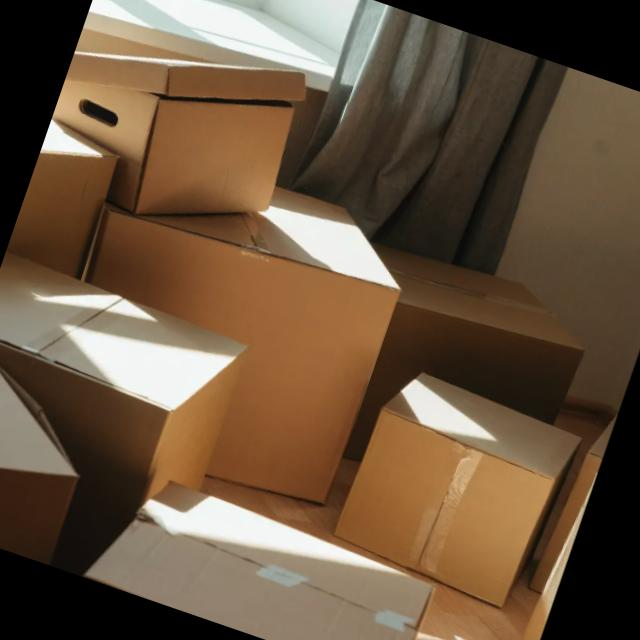Kardus: (0, 0, 459, 514), (0, 249, 255, 603), (298, 230, 598, 520), (30, 0, 317, 256), (325, 360, 586, 614), (81, 460, 440, 640), (0, 342, 114, 566), (10, 118, 130, 274)
